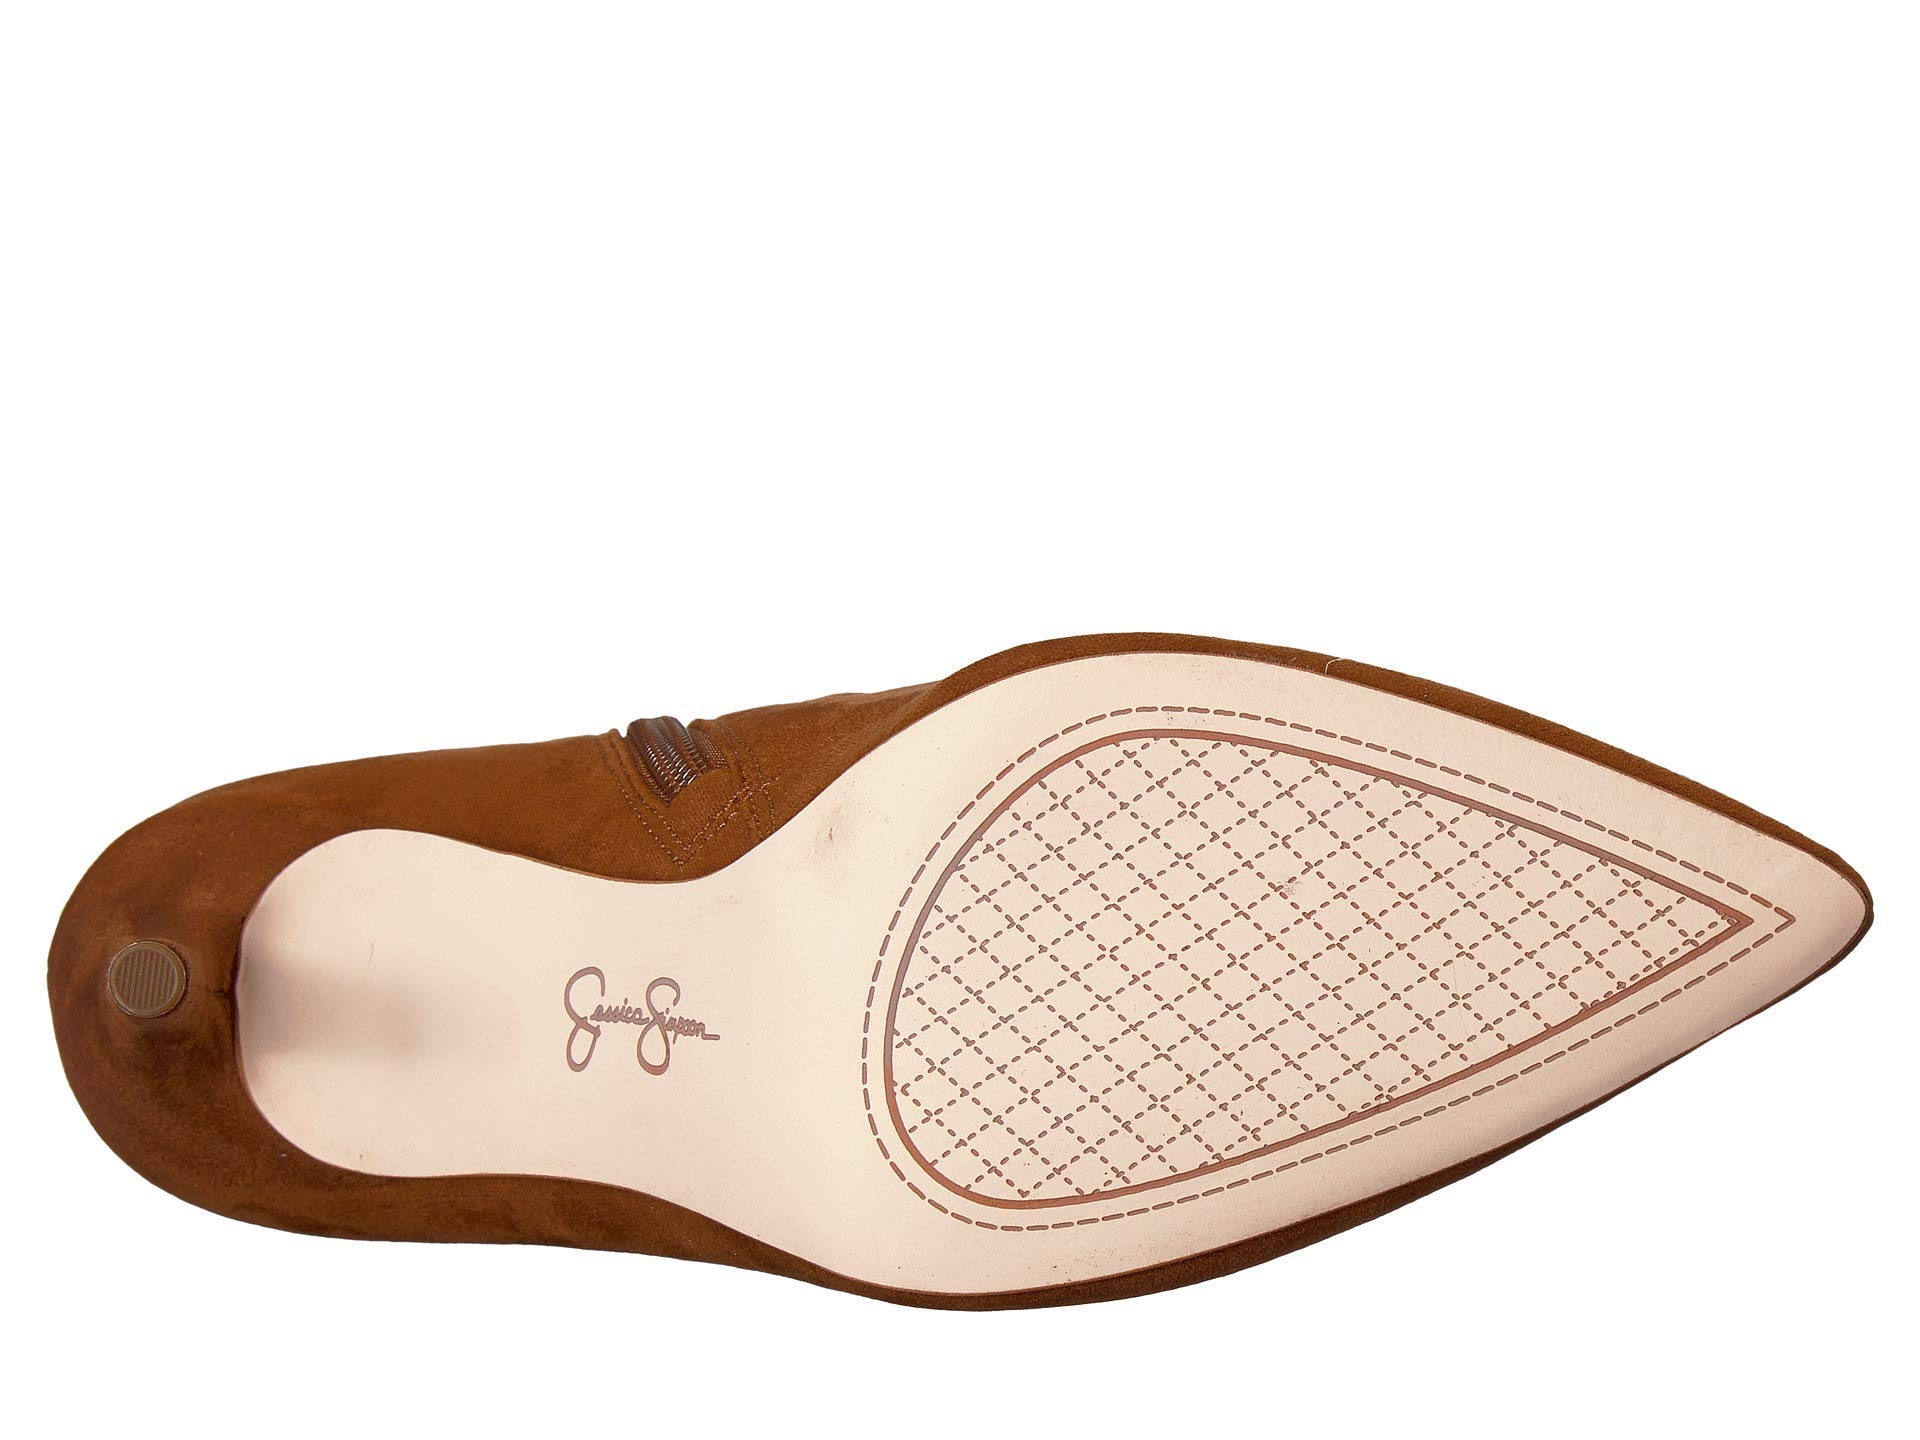line: (135, 961, 169, 997)
quad: (965, 805, 1469, 1086)
